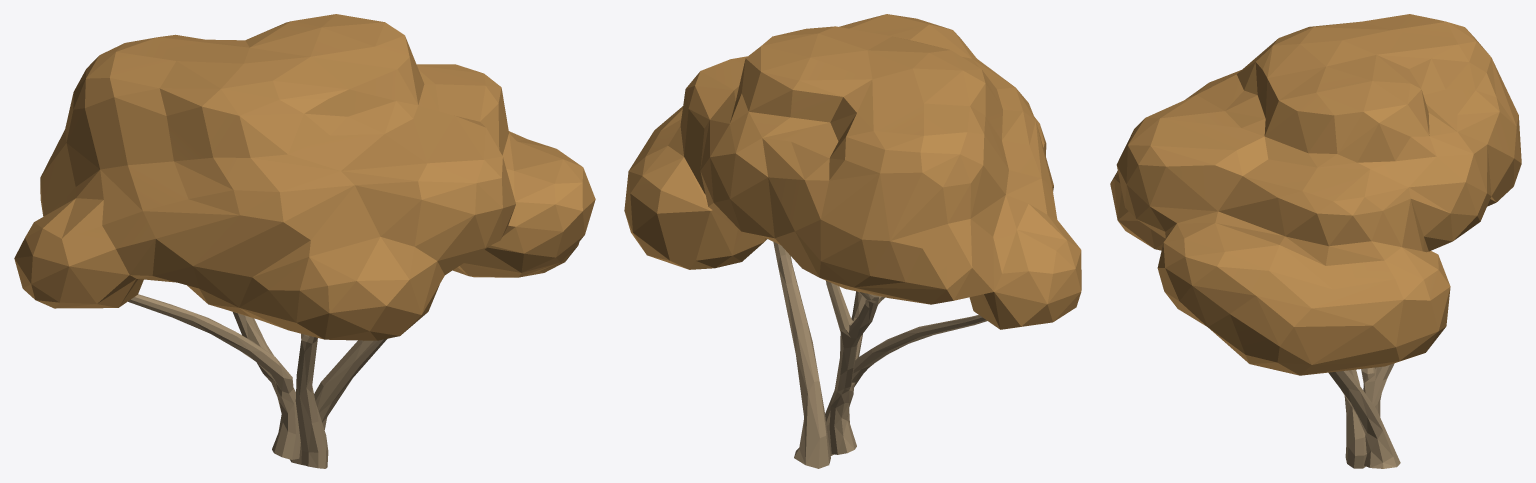
Rendered from LightWoodDecorationMediumTreewCanopy1.fbx.
3 views of the same model, side by side, from view 1: azimuth 30°, elevation 25°; view 2: azimuth 150°, elevation 25°; view 3: azimuth 270°, elevation 25° (orthographic). The views are drawn at different scales.
Parts seen in each view (by area): view 1: Leaves, Trunk; view 2: Leaves, Trunk; view 3: Leaves, Trunk.
Part boxes in pixels (box(x1,y1,x2,y2)): Leaves: box(14, 14, 595, 340); Trunk: box(128, 294, 387, 468); Leaves: box(624, 14, 1081, 329); Trunk: box(773, 242, 986, 468); Leaves: box(1110, 14, 1521, 375); Trunk: box(1328, 363, 1400, 468).
Bounding box in the file's own units: 1510 × 1236 × 1180.
